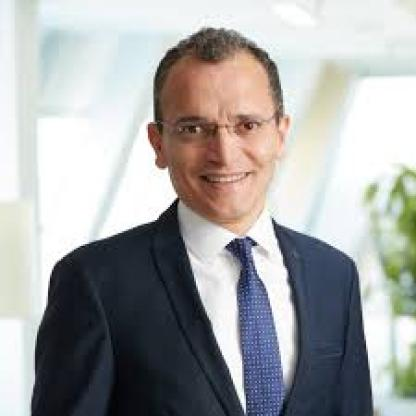person: (145, 23, 291, 221)
